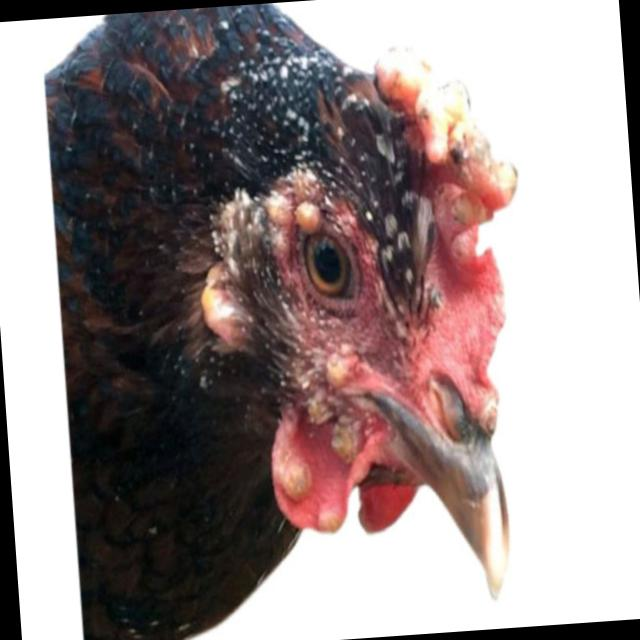Fowlpox: (139, 0, 599, 593)
